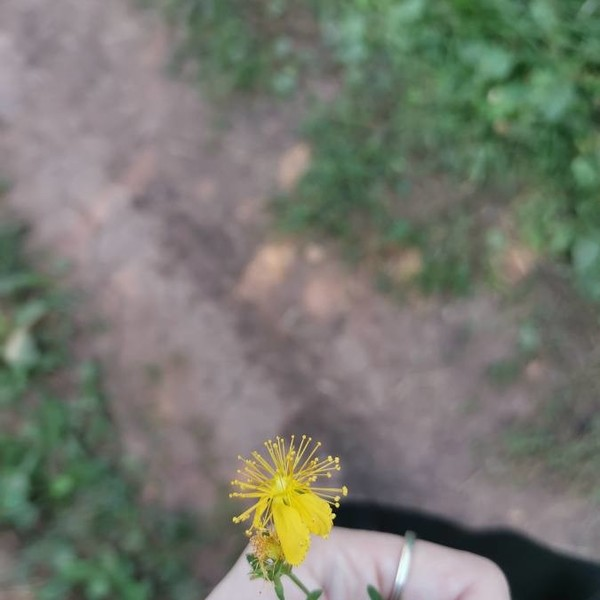obstacle: (185, 422, 326, 586)
